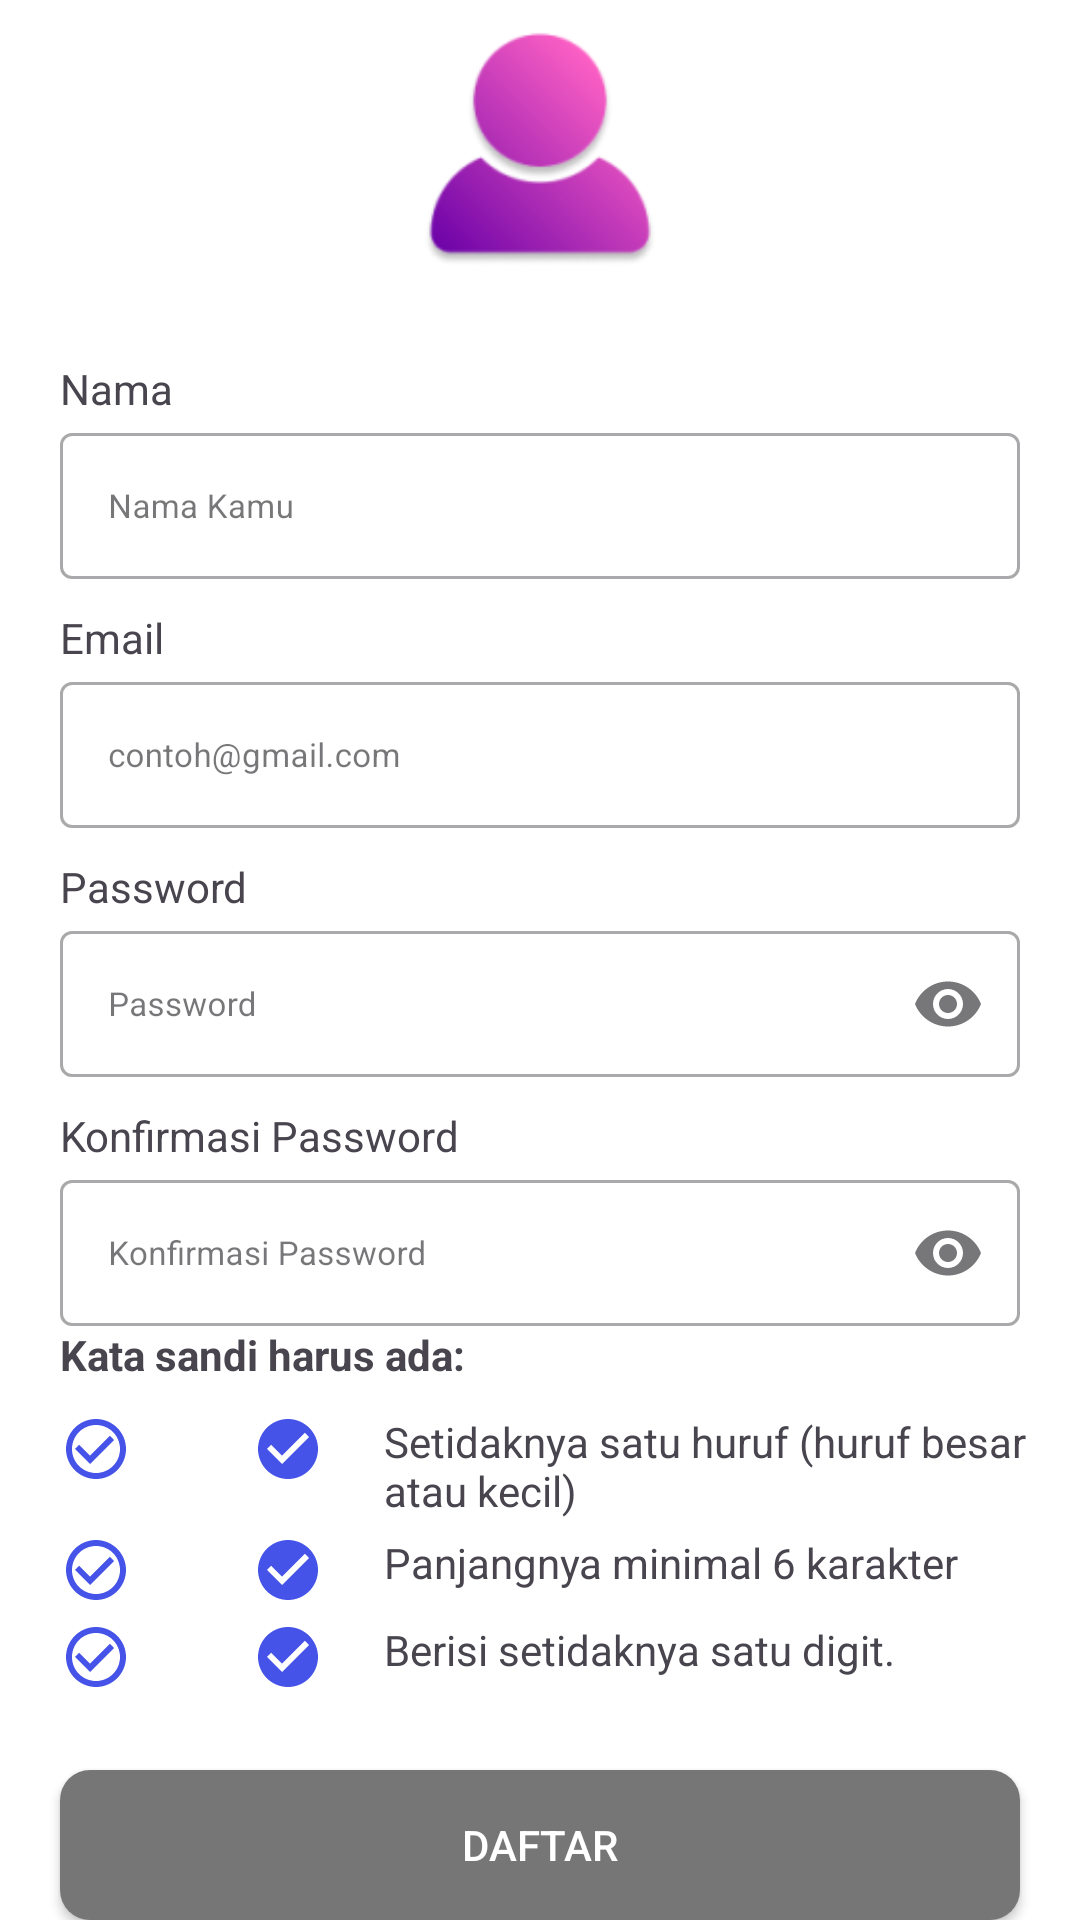

Named icons in this screenshot (1080px×1920px) and their centers, point (x, y):
check circle: point (96, 1449), point (288, 1449), point (96, 1570), point (288, 1570), point (96, 1657), point (288, 1657)
profile: point (540, 146)
